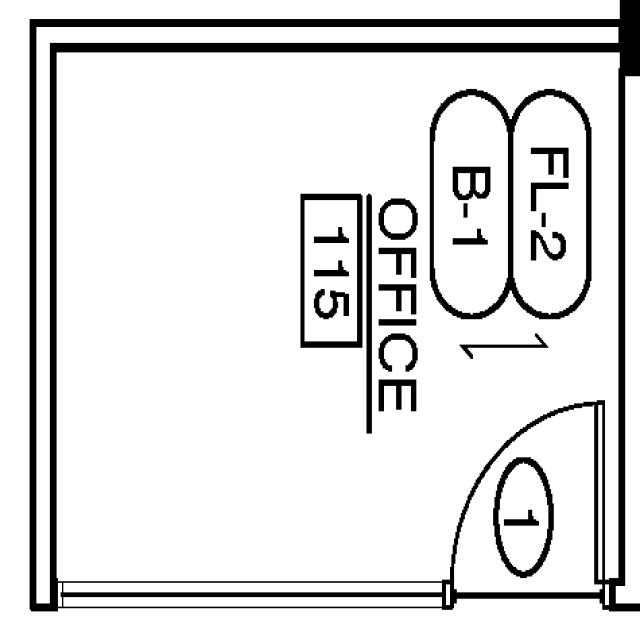Doors: (439, 396, 609, 612)
